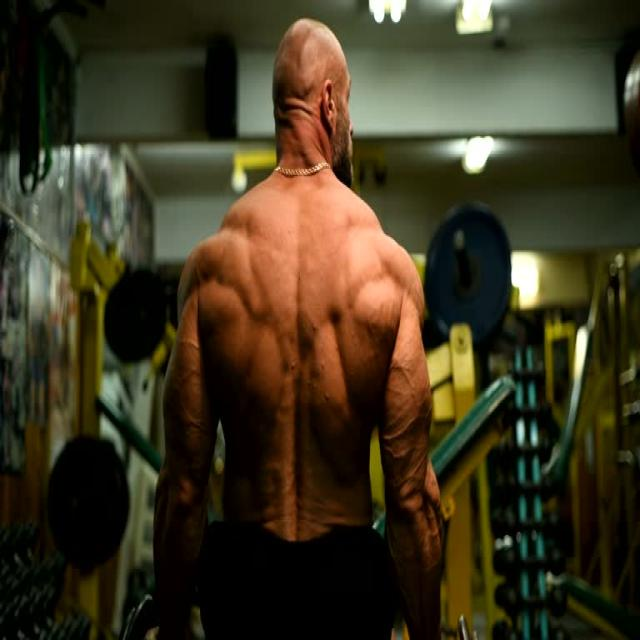no_helmet: (254, 141, 374, 210)
